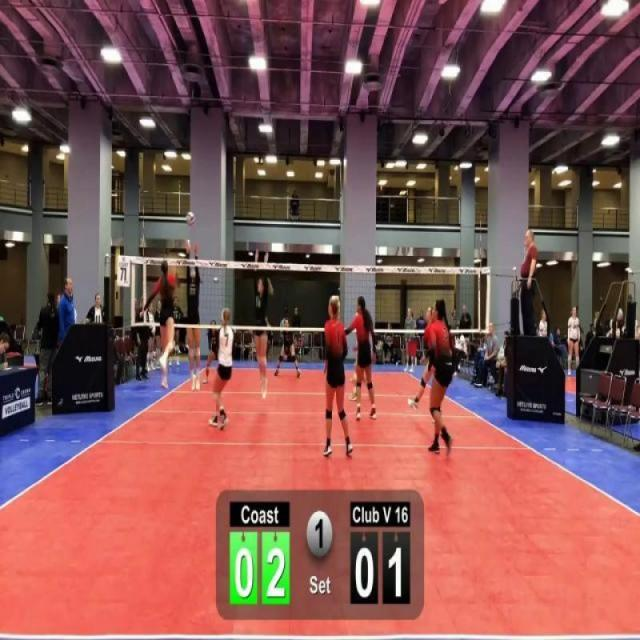volleyball: (184, 209, 196, 228), (616, 308, 624, 322)
